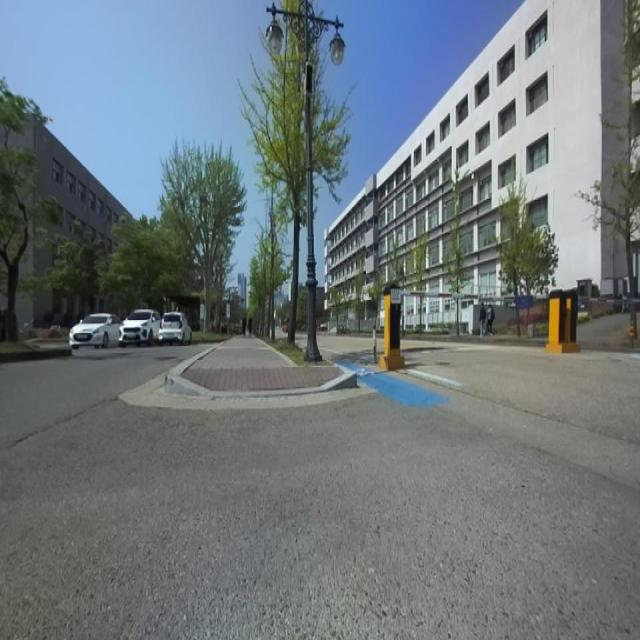sidewalk: (182, 337, 341, 392)
